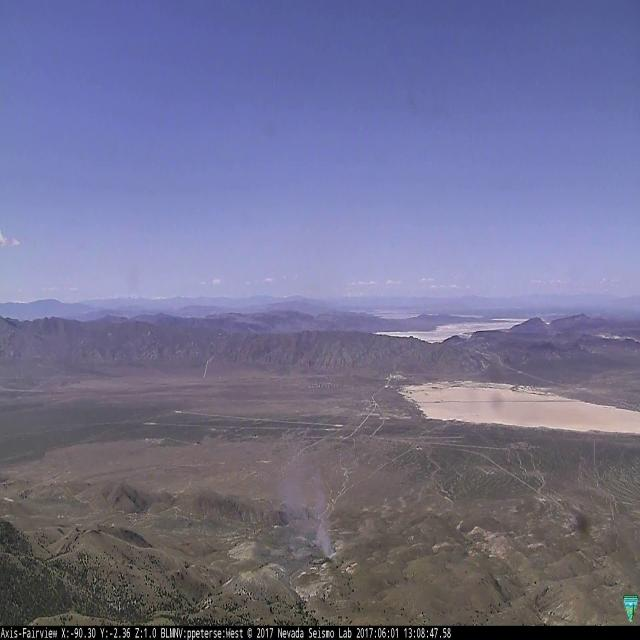smoke: (283, 438, 335, 558)
